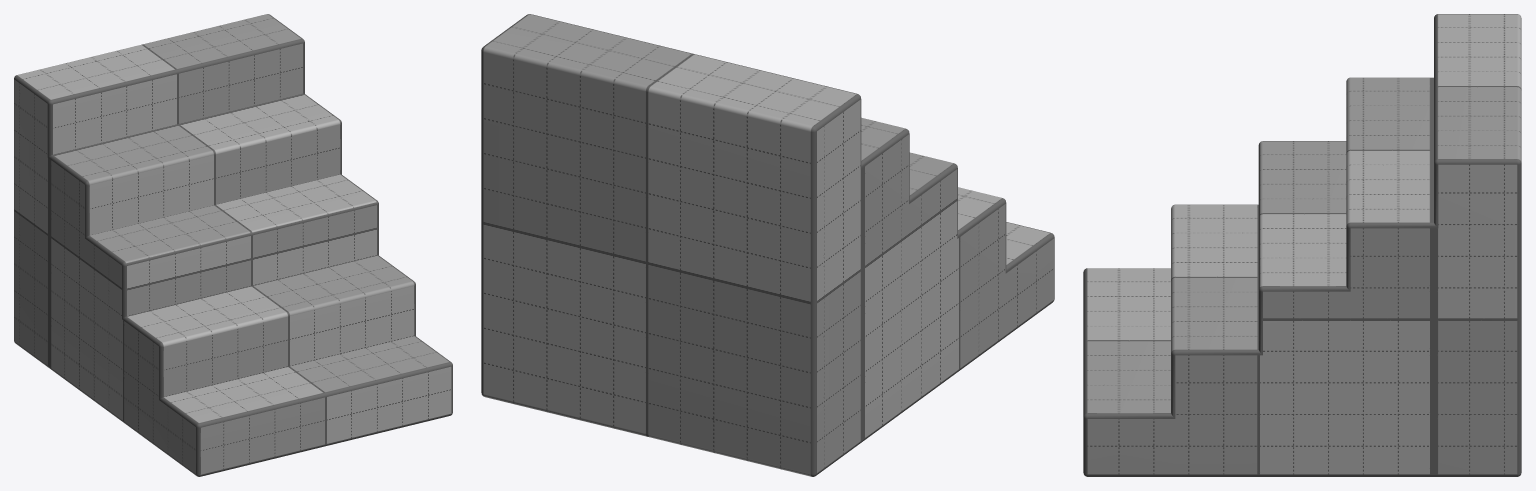
Rendered from Stairs1x1x1_25.fbx.
3 renders of one model, left to right at view 1: azimuth 30°, elevation 25°; view 2: azimuth 150°, elevation 25°; view 3: azimuth 270°, elevation 25°, orthographic. The views are drawn at different scales.
Visible parts, largest first — view 1: Stairs1x1x1_25; view 2: Stairs1x1x1_25; view 3: Stairs1x1x1_25.
Part boxes in pixels (x1,y1,x2,y2): Stairs1x1x1_25: [14, 14, 452, 476]; Stairs1x1x1_25: [481, 14, 1054, 476]; Stairs1x1x1_25: [1083, 14, 1521, 476].
Size of the model in its own units: 100 by 100 by 125.
